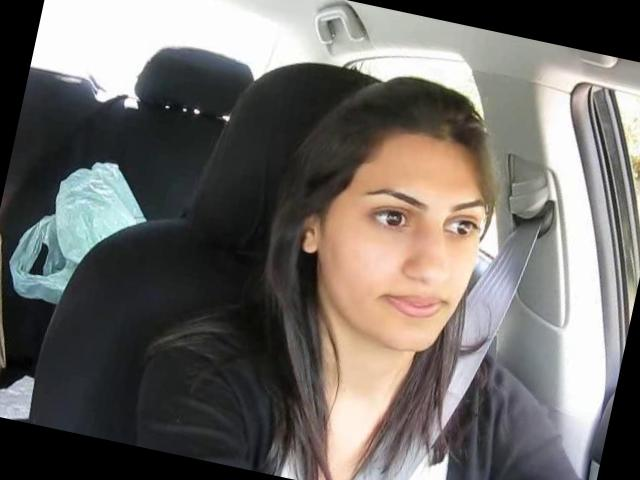eye_open: (364, 199, 414, 238), (441, 207, 484, 248)
face: (312, 158, 498, 364)
